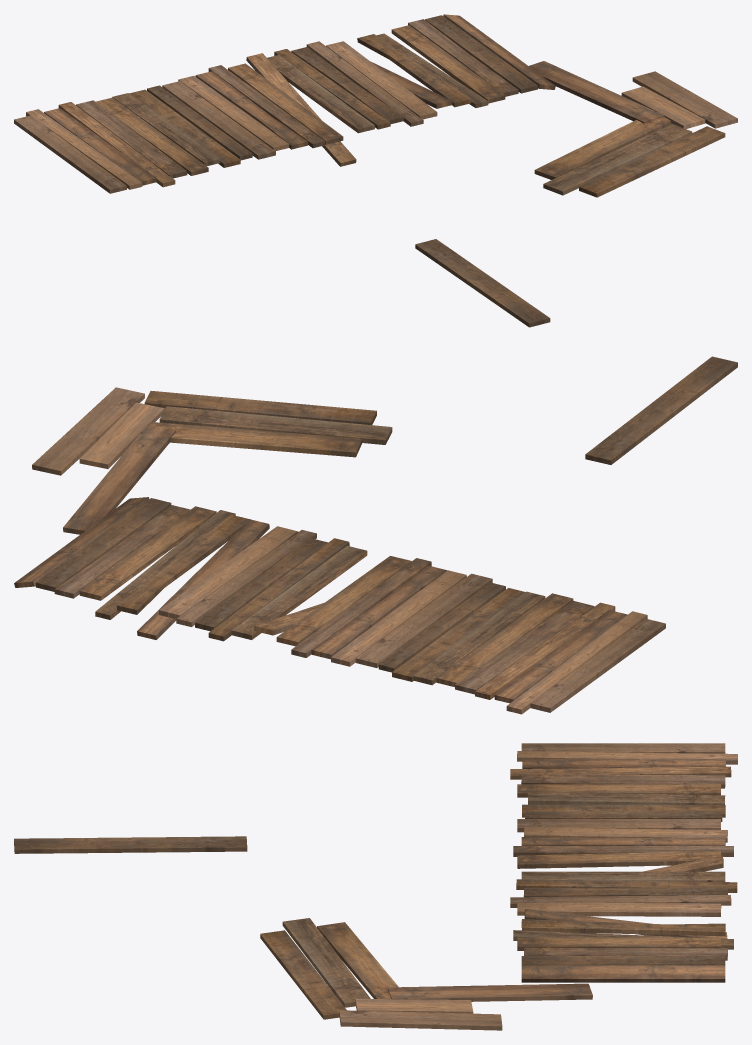
Rendered from C03_JUNGLE_BRIDGE_v05_woods.fbx.
The picture shows the model from 3 angles, top to bottom: view 1: azimuth 30°, elevation 25°; view 2: azimuth 150°, elevation 25°; view 3: azimuth 270°, elevation 25°; orthographic projection. The views are drawn at different scales.
Parts seen in each view (by area): view 1: Cube.020, Cube.050; view 2: Cube.020, Cube.050; view 3: Cube.020, Cube.050.
Part boxes in pixels (x1,y1,x2,y2): Cube.020: (14, 14, 555, 193); Cube.050: (415, 61, 737, 327); Cube.020: (14, 497, 665, 714); Cube.050: (32, 356, 737, 534); Cube.020: (510, 743, 737, 982); Cube.050: (14, 836, 592, 1030).
Bounding box in the file's own units: 515 × 37.78 × 562.
